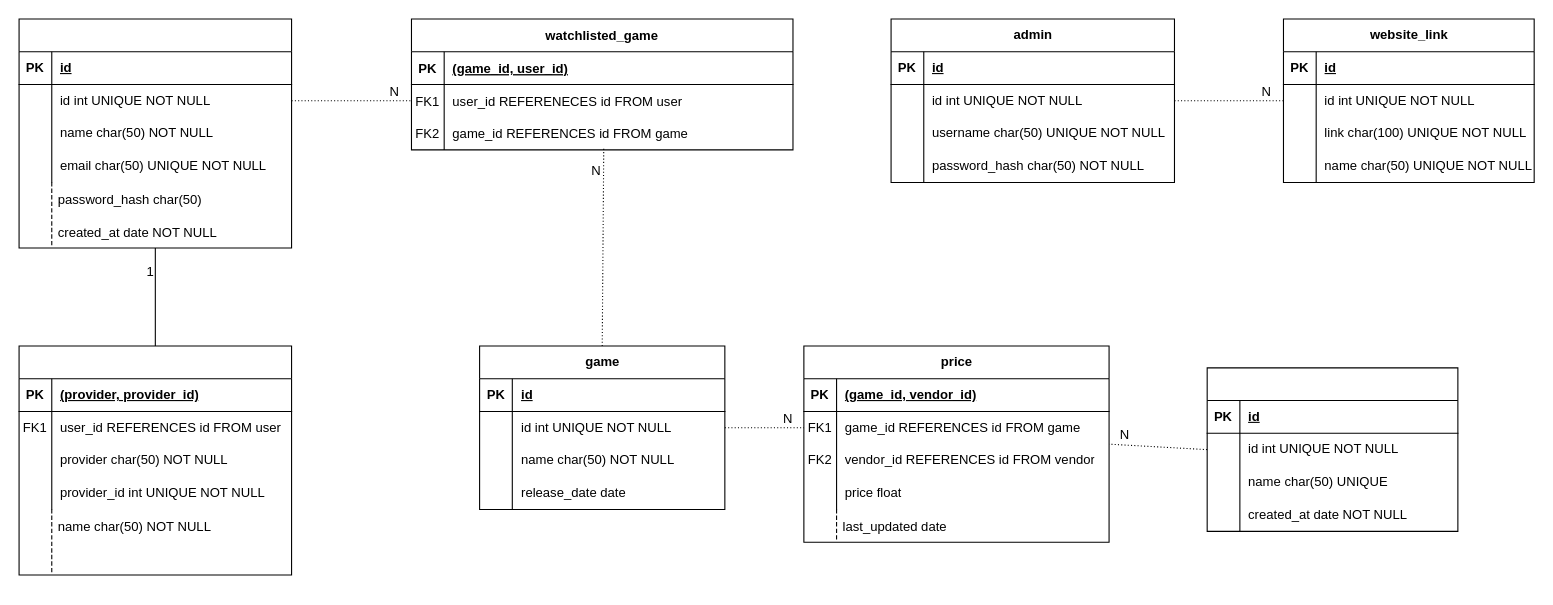
Some shapes in this 1553 by 605 pixel diagram are drawn without their labels. The shapes that lost their labels are listed below. From the top down, each one's box as (x1, y1, x2, y2) in pixels, then its label:
(18, 18, 292, 248): user
(18, 345, 292, 575): auth_provider_user
(1206, 367, 1458, 531): vendor
